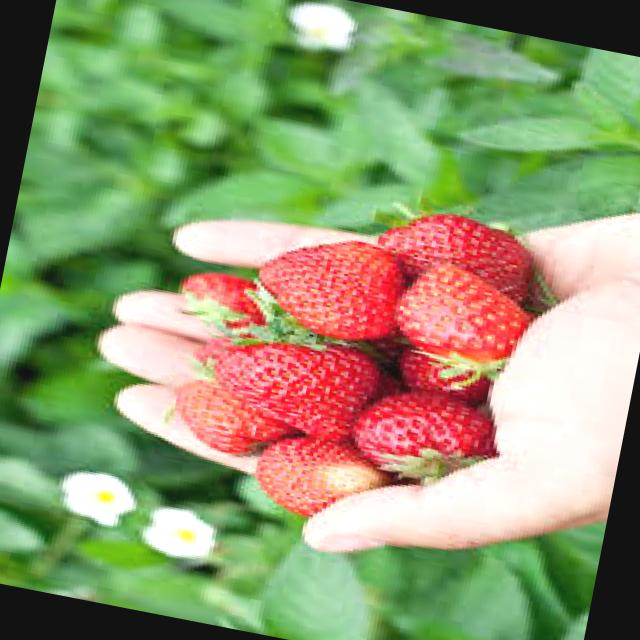strawberry: (194, 308, 377, 446), (255, 222, 398, 356), (387, 252, 527, 378), (238, 426, 384, 536), (355, 382, 496, 488)
